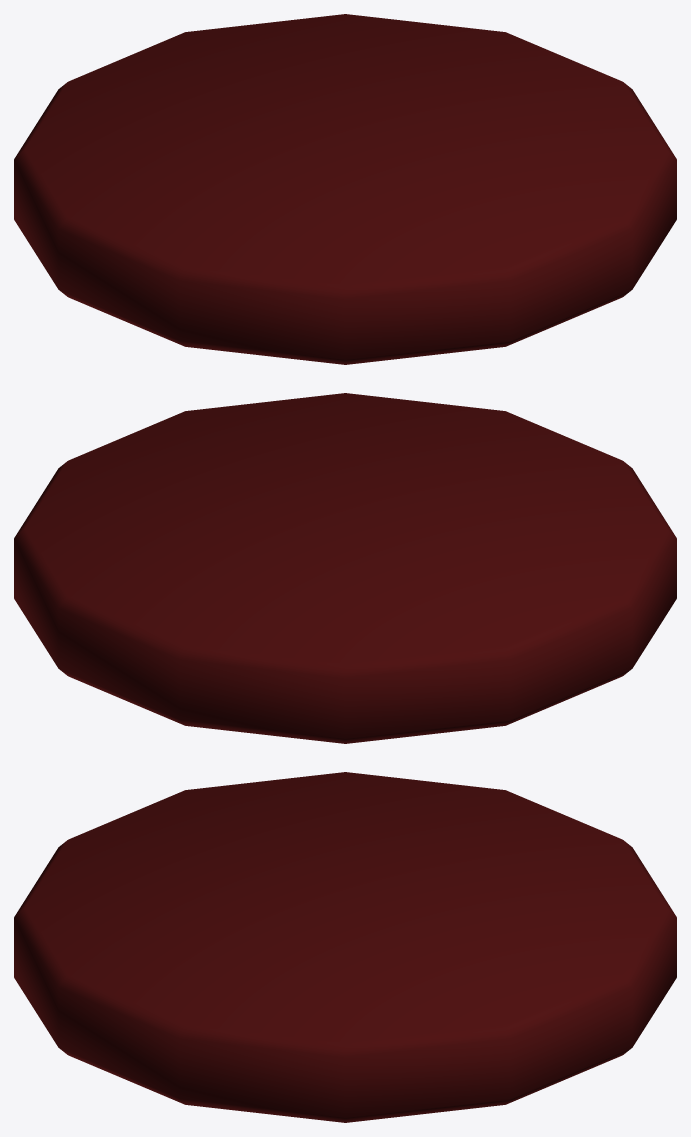
The model's file is Button.fbx.
3 views of the same model, one above another, from view 1: azimuth 30°, elevation 25°; view 2: azimuth 150°, elevation 25°; view 3: azimuth 270°, elevation 25° (orthographic).
Visible parts, largest first — view 1: Cylinder; view 2: Cylinder; view 3: Cylinder.
Boxes of the visible parts, x1,y1,x2,y2 form: Cylinder: [14, 14, 676, 364]; Cylinder: [14, 393, 676, 743]; Cylinder: [14, 772, 676, 1122].
Size of the model in its own units: 30 by 4 by 30.
